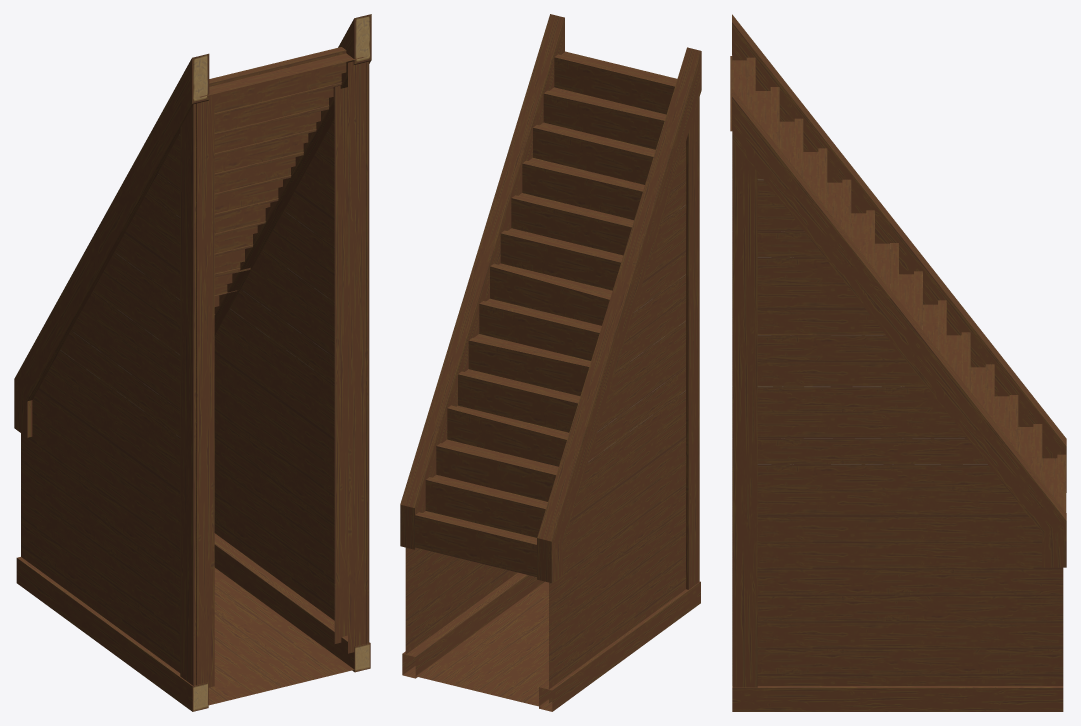
File: Stair_Interior_SolidExtended.fbx
3 renders of one model, left to right at view 1: azimuth 30°, elevation 25°; view 2: azimuth 150°, elevation 25°; view 3: azimuth 270°, elevation 25°, orthographic. The views are drawn at different scales.
Visible parts, largest first — view 1: Stair_Interior_SolidExtended; view 2: Stair_Interior_SolidExtended; view 3: Stair_Interior_SolidExtended.
Boxes of the visible parts, x1,y1,x2,y2 form: Stair_Interior_SolidExtended: (14, 14, 371, 711); Stair_Interior_SolidExtended: (400, 14, 701, 711); Stair_Interior_SolidExtended: (730, 14, 1066, 711).
Bounding box in the file's own units: 1.77 × 6.16 × 3.05.
